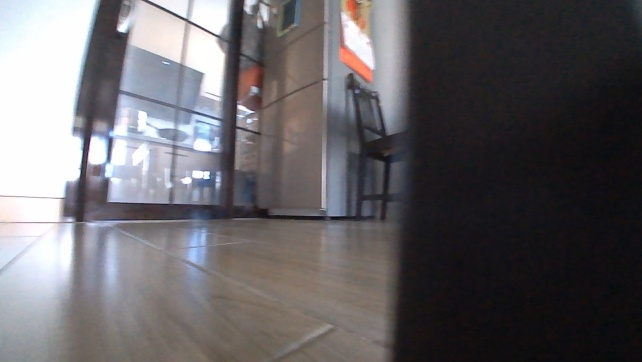refrigerator: (253, 0, 380, 222)
